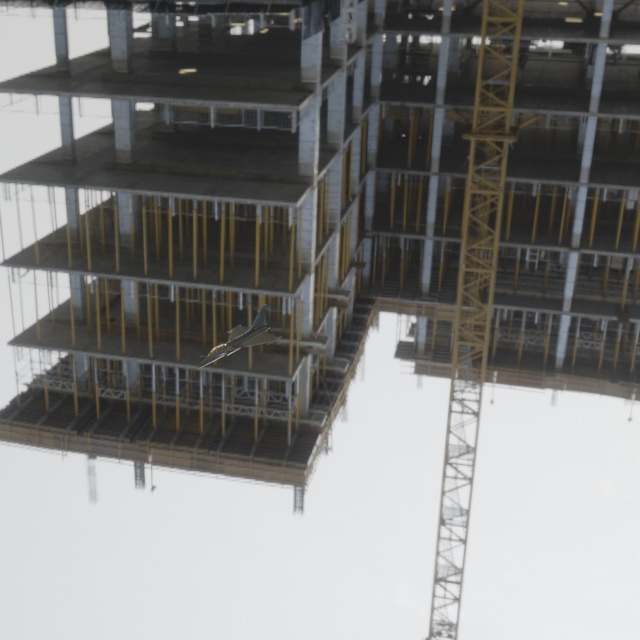dassault_rafale: (172, 298, 293, 378)
